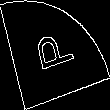P_W: (31, 30, 79, 80)
